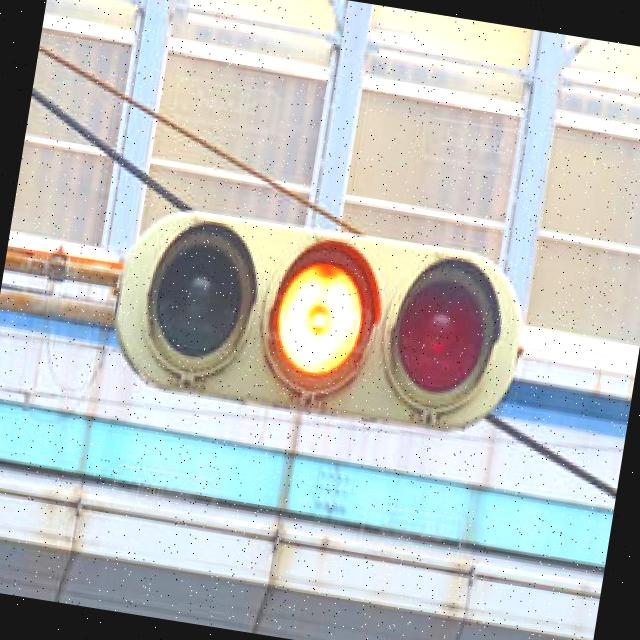yellow_light: (268, 226, 387, 413)
